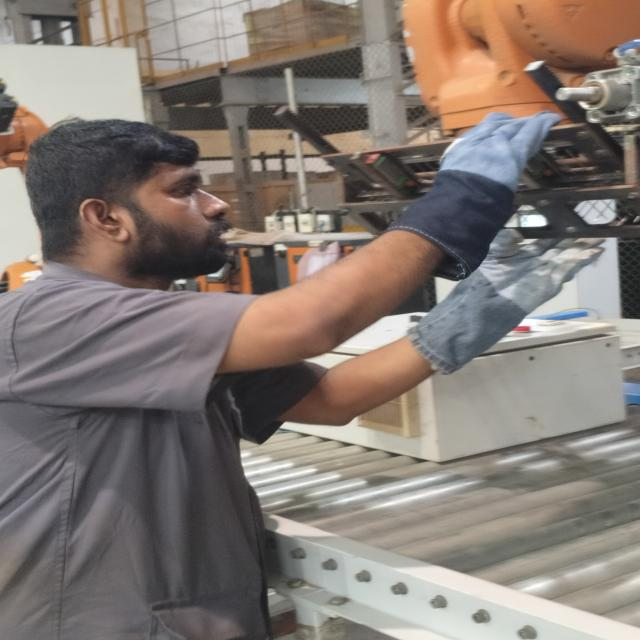Gloves-Detection: (406, 232, 598, 372), (397, 104, 530, 257)
